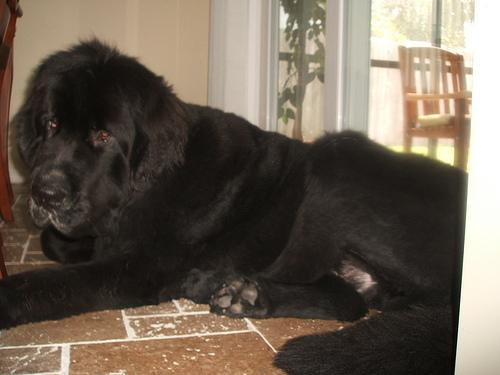dog-newfoundland: (15, 46, 189, 238)
